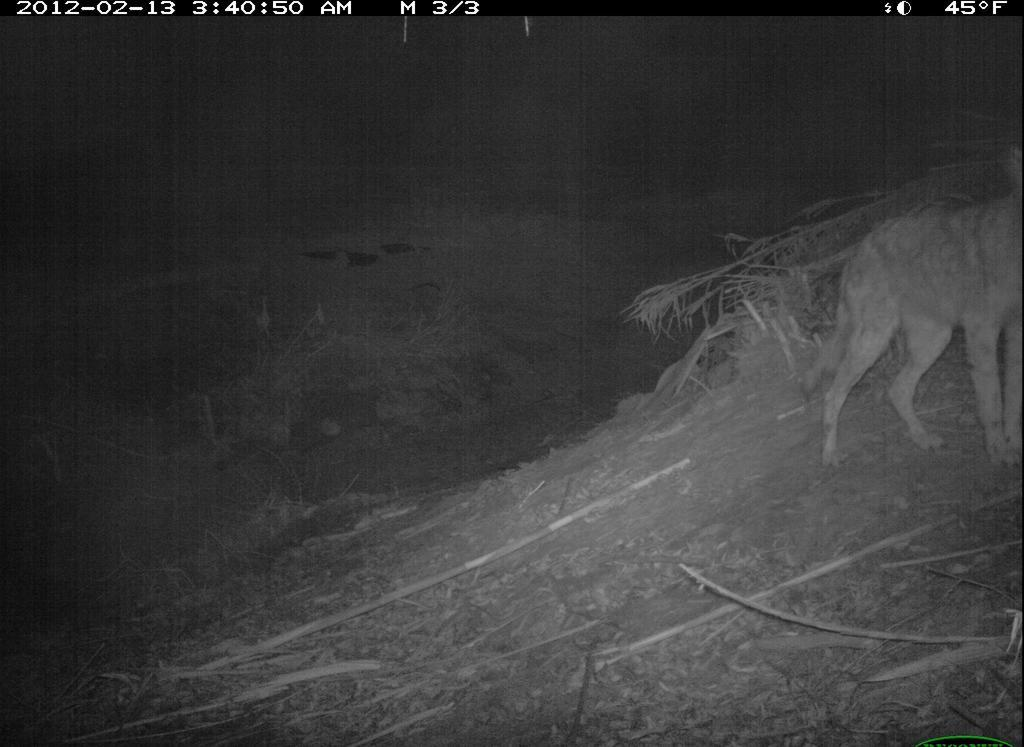coyote: (801, 187, 1022, 470)
